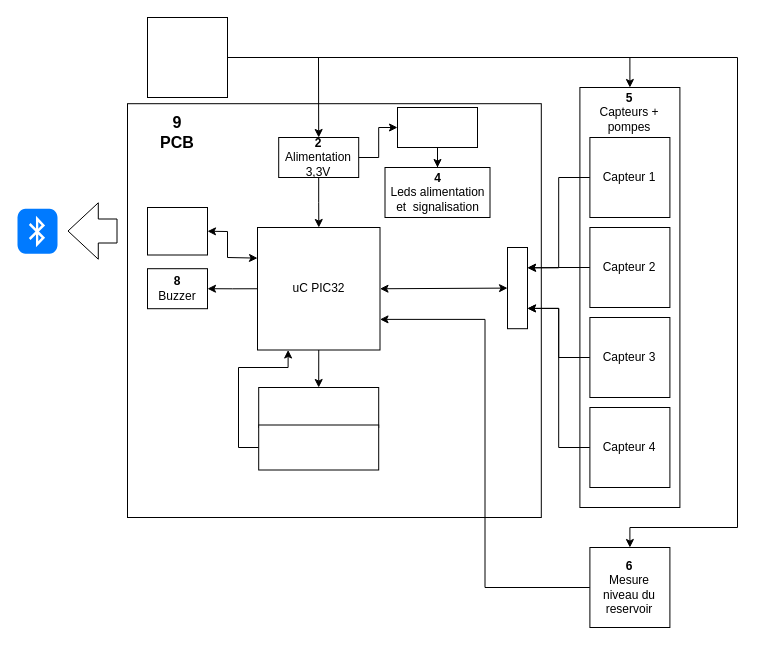
Some shapes in this 763 by 645 pixel diagram are drawn without their labels. Here are the shapes that lost their labels. From the top down, the centre of each, then its label:
(187,57): 1 Alimentation externe 5V
(437,127): 3 Alimentation pour leds
(177,230): 7 Module bluetooth
(318,407): Affichage LCD 4x20
(318,447): Bouton poussoir montés sur boitier
